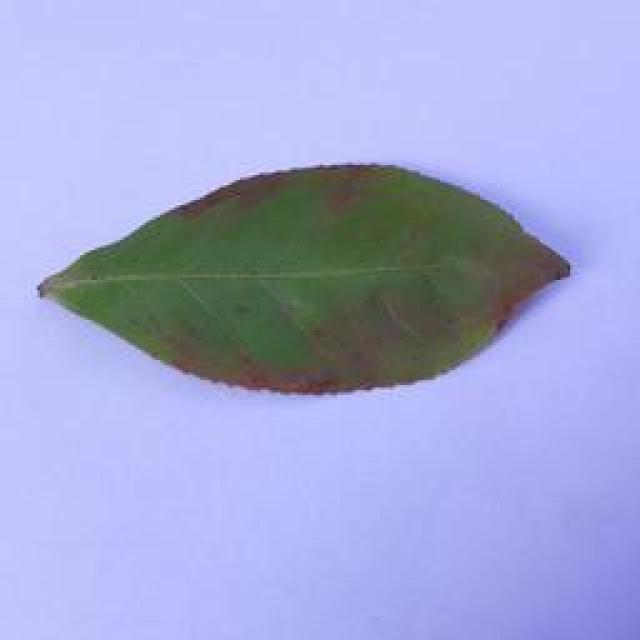Red Leaf Spot: (32, 149, 580, 411)
